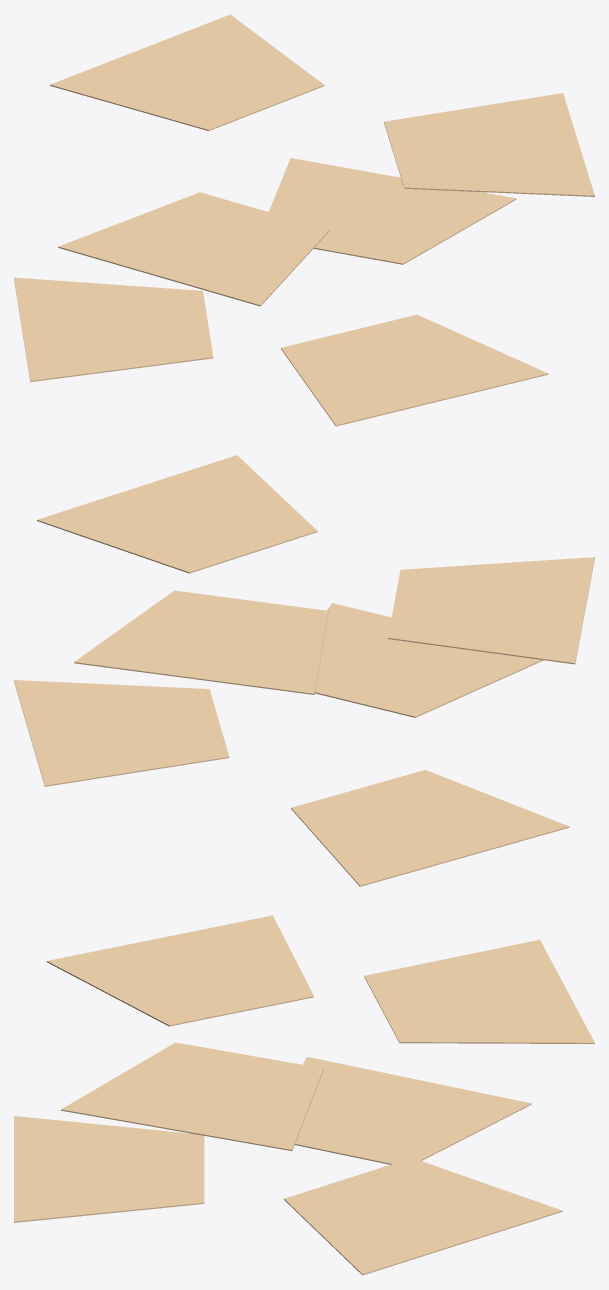
The picture shows the model from 3 angles, top to bottom: view 1: azimuth 30°, elevation 25°; view 2: azimuth 150°, elevation 25°; view 3: azimuth 270°, elevation 25°; orthographic projection. The views are drawn at different scales.
Parts seen in each view (by area): view 1: base; view 2: base; view 3: base.
Boxes of the visible parts, left/top/right/bottom form: base: left=14, top=14, right=594, bottom=426; base: left=14, top=455, right=594, bottom=886; base: left=14, top=915, right=594, bottom=1275.
Size of the model in its own units: 9.22 by 3.04 by 8.64.
